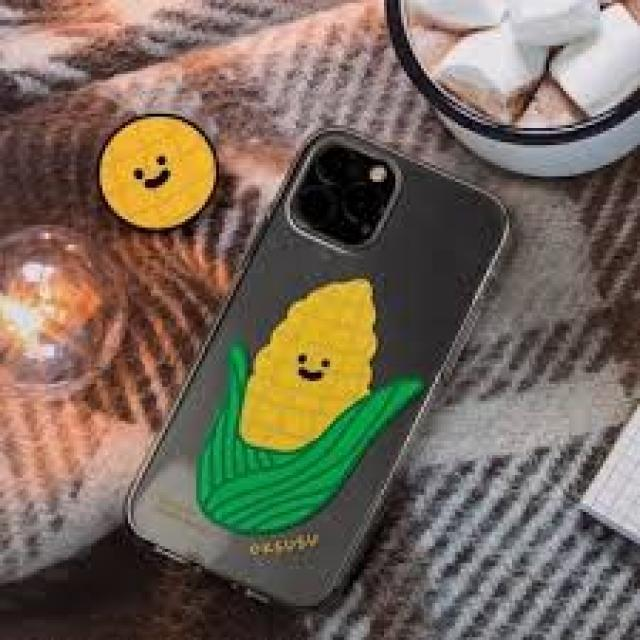lens: (297, 142, 390, 244)
phone: (118, 121, 511, 616)
